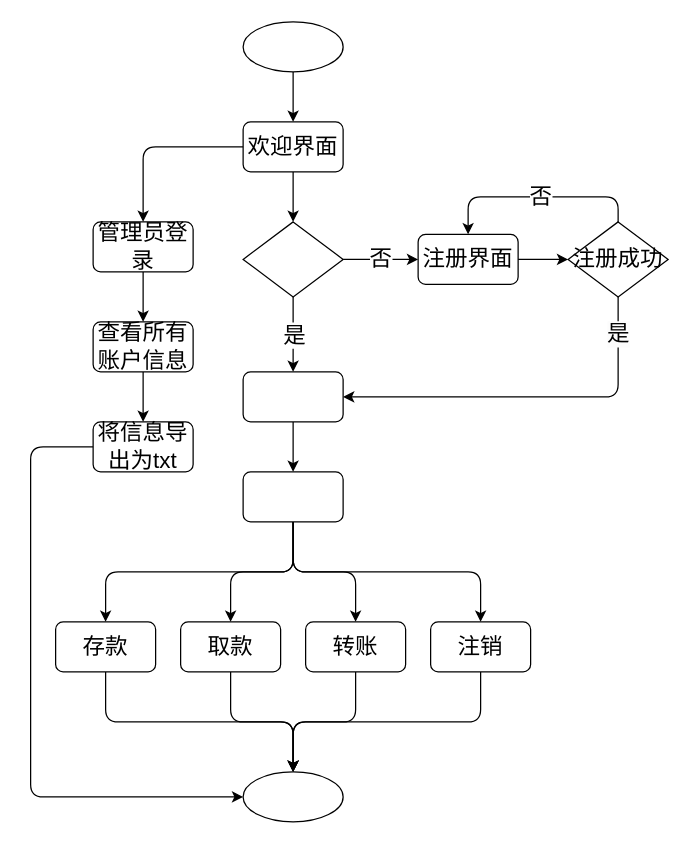
The diagram is 690 pixels wide and 844 high, and some of its shapes have lost their labels. Each missing label, with the centre of its shape:
"ATM界面" goes at (292,496).
"开始" goes at (292,46).
"有无账户" goes at (292,259).
"登录" goes at (292,396).
"结束" goes at (292,796).
